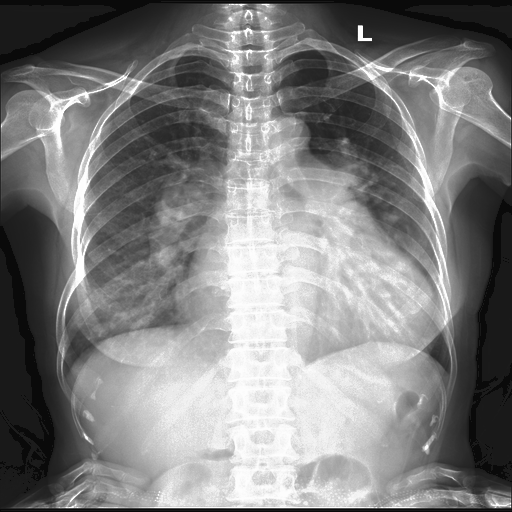ILD: (87, 208, 195, 332)
Nodule/Mass: (176, 277, 440, 351)
Pleural thickening: (65, 206, 169, 333), (304, 137, 385, 209)
